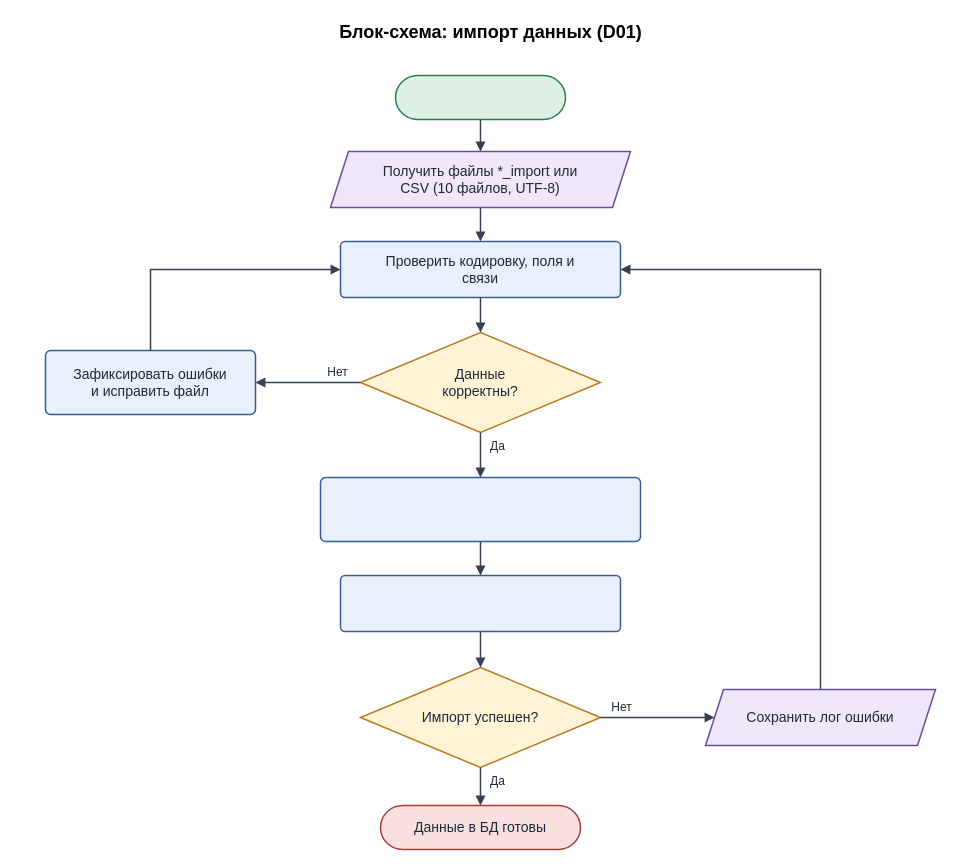
The diagram is 980 pixels wide and 867 high, and some of its shapes have lost their labels. Each missing label, with the centre of its shape:
"Загрузить справочники, затем products, users, pvz, orders, prodorders" belongs at [480,509].
"Начало" belongs at [480,97].
"Проверить число строк, PK и FK" belongs at [480,603].
